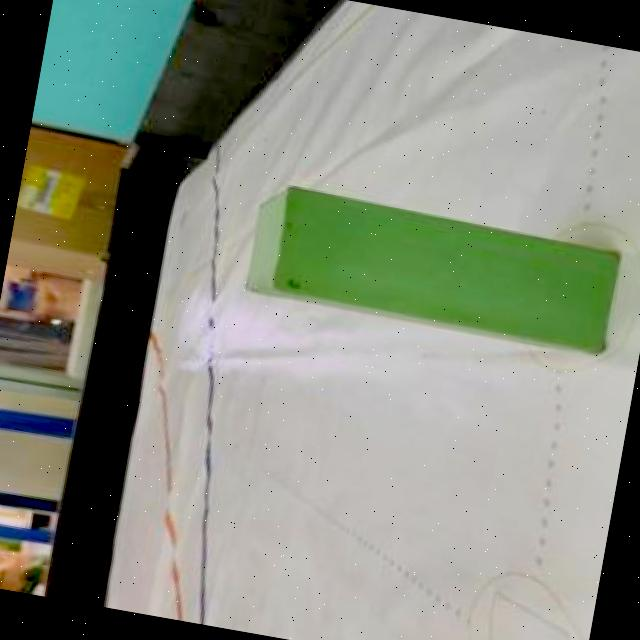greenbox: (239, 180, 624, 358)
